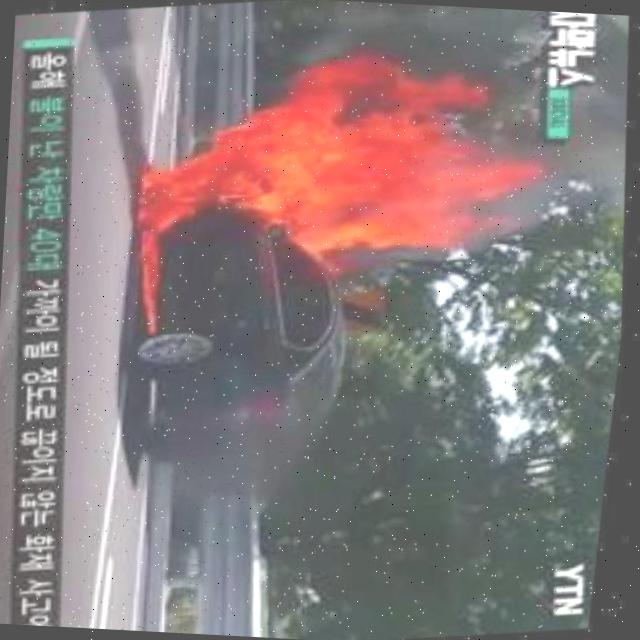fire: (127, 45, 553, 274), (119, 210, 181, 341)
